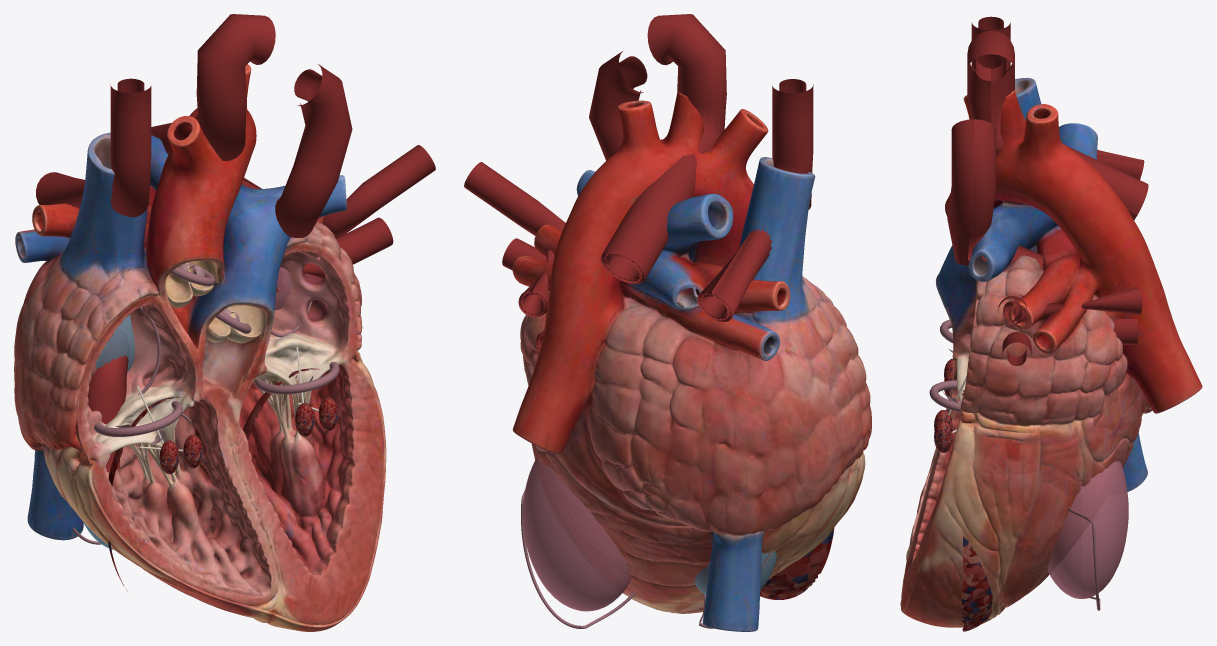
Rendered from heart_segmented_tricuspid_leaky.glb.
3 views of the same model, side by side, from view 1: azimuth 30°, elevation 25°; view 2: azimuth 150°, elevation 25°; view 3: azimuth 270°, elevation 25° (orthographic). The views are drawn at different scales.
Parts seen in each view (by area): view 1: HeartBody, PulmonaryTrunk, Aorta, SVC, PulmonaryVeinL, IVC, PulmonaryVeinR, BloodRA, AnnulusTricuspid, AnnulusMitral; view 2: HeartBody, Aorta, BloodLV, SVC, PulmonaryVeinL, PulmonaryTrunk, WallRV, CavityLipLV, PulmonaryVeinR, BloodRV; view 3: HeartBody, BloodLV, PulmonaryTrunk, Aorta, WallLV, PulmonaryVeinL, SVC, PulmonaryVeinR, AnnulusMitral, PapillaryMitral2, CavityLipLV.
Part boxes in pixels (<box>): HeartBody: <box>14,64,386,631</box>; PulmonaryTrunk: <box>275,64,352,237</box>; Aorta: <box>151,14,275,160</box>; SVC: <box>36,78,151,217</box>; PulmonaryVeinL: <box>242,145,435,236</box>; IVC: <box>87,329,129,471</box>; PulmonaryVeinR: <box>276,217,393,292</box>; BloodRA: <box>95,315,134,372</box>; AnnulusTricuspid: <box>94,401,182,436</box>; AnnulusMitral: <box>254,361,339,394</box>; HeartBody: <box>512,91,871,631</box>; Aorta: <box>601,14,726,284</box>; BloodLV: <box>523,458,631,611</box>; SVC: <box>697,79,813,321</box>; PulmonaryVeinL: <box>464,162,565,317</box>; PulmonaryTrunk: <box>589,51,647,160</box>; WallRV: <box>760,528,834,599</box>; CavityLipLV: <box>521,479,635,628</box>; PulmonaryVeinR: <box>502,238,546,352</box>; BloodRV: <box>695,551,776,594</box>; HeartBody: <box>900,77,1202,627</box>; BloodLV: <box>1047,461,1128,598</box>; PulmonaryTrunk: <box>947,119,1043,269</box>; Aorta: <box>967,30,1148,220</box>; WallLV: <box>961,390,992,631</box>; PulmonaryVeinL: <box>998,286,1142,326</box>; SVC: <box>971,16,1144,179</box>; PulmonaryVeinR: <box>1002,319,1137,366</box>; AnnulusMitral: <box>929,380,960,412</box>; PapillaryMitral2: <box>934,420,952,452</box>; CavityLipLV: <box>1068,507,1100,610</box>.
Bounding box in the file's own units: 0.0997 × 0.1465 × 0.0701.
Materials: 10 (4 with a texture image).
